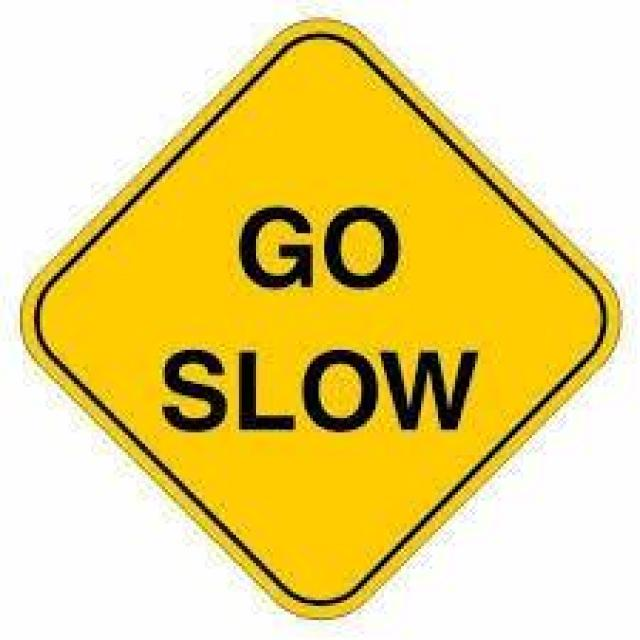go_slow: (23, 19, 622, 629)
